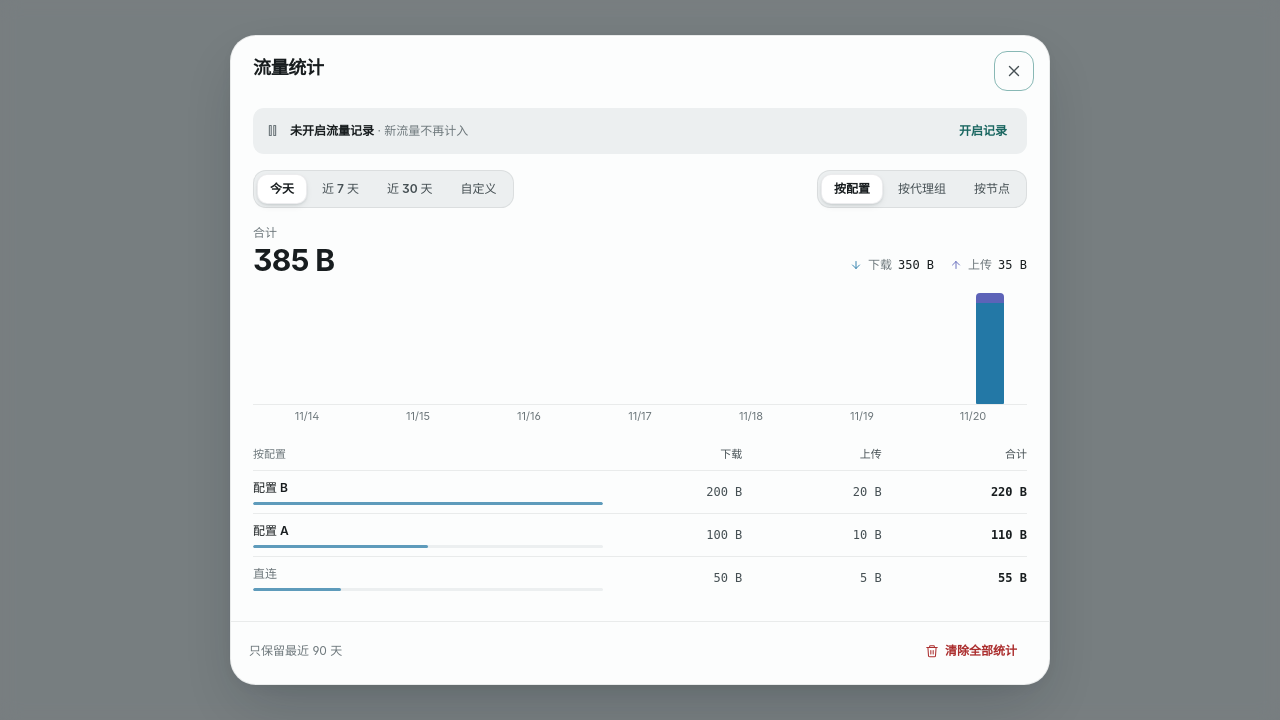
Test case: TrafficStatsDialog (R43) › keeps earlier rows readable and clearable after recording is turned off
Expected: the element with test id "traffic-off" shows "未开启流量记录", 290,123 -> 374,138
Expected: the number of rows with test id "traffic-row" is 3, 253,471 -> 1027,514; 253,514 -> 1027,557; 253,557 -> 1027,599
Click the button "清除全部统计" at (971,651), box 911,634 -> 1031,668
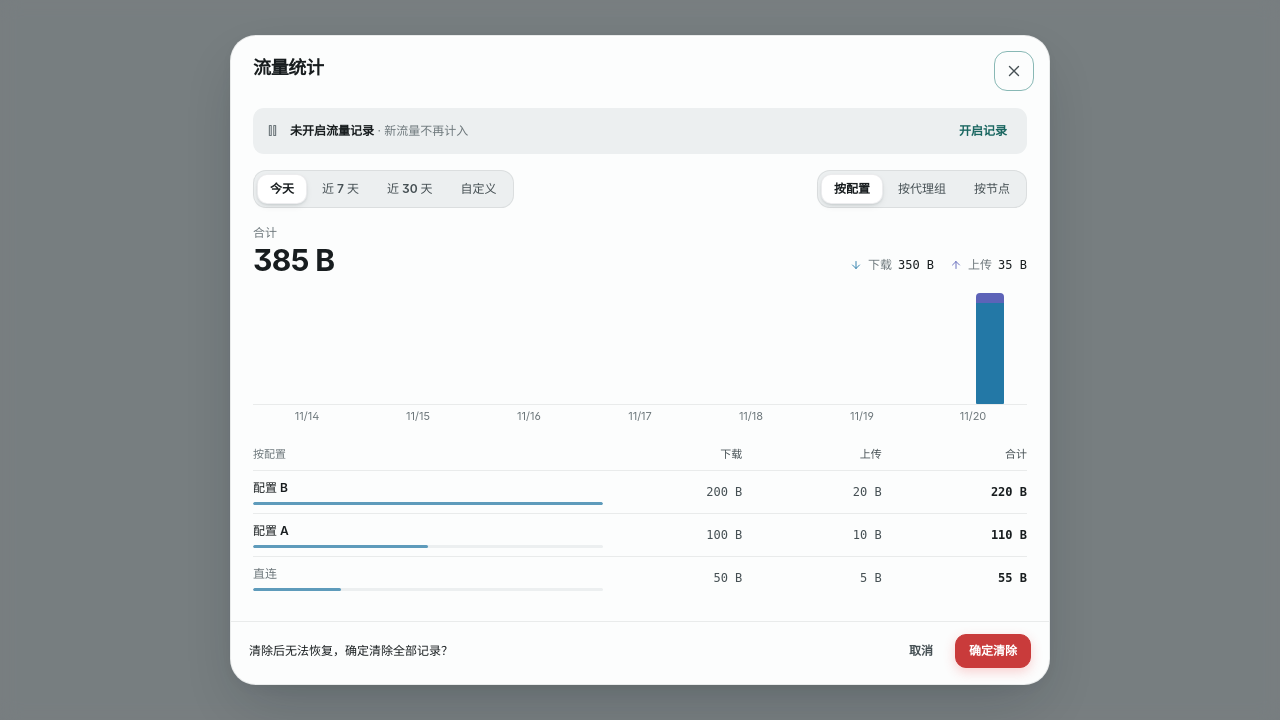
Click the button with test id "traffic-clear-confirm" at (993,651), box 955,634 -> 1031,668
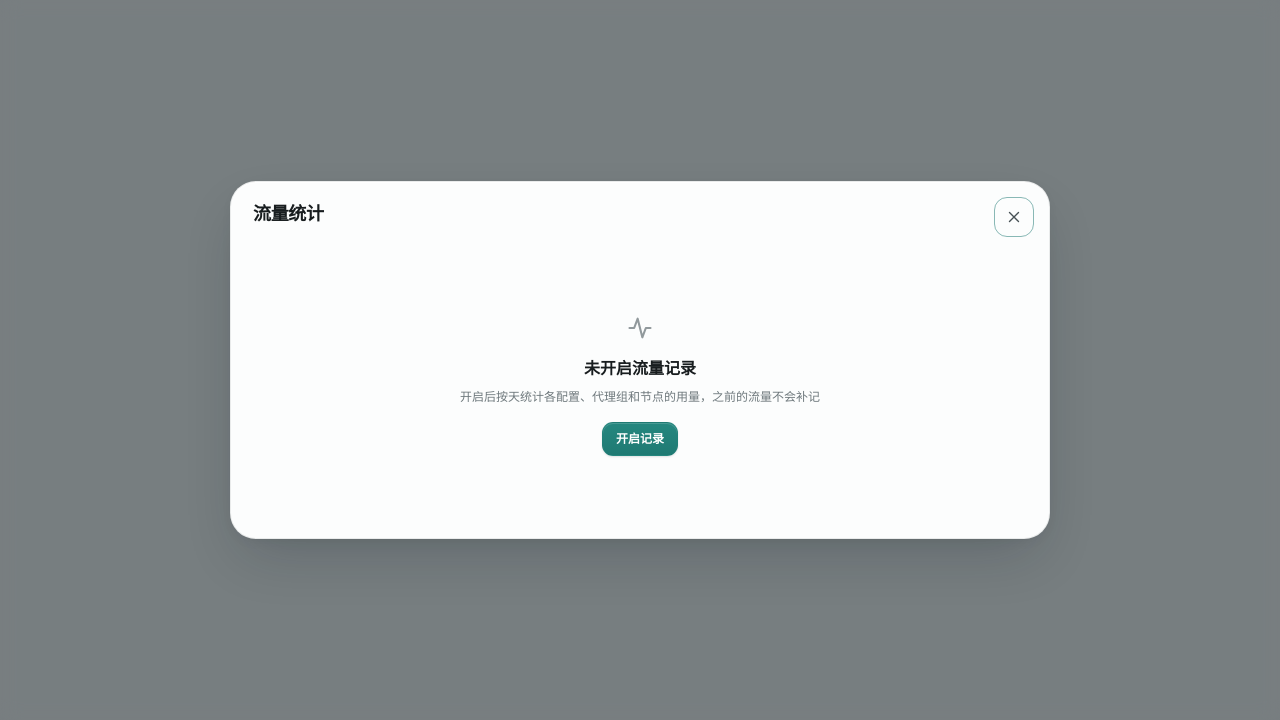
Expected: the button with test id "traffic-enable" is shown, 602,422 -> 678,456
Expected: the element with test id "traffic-off" shows "未开启流量记录", 584,358 -> 696,378
Expected: the row with test id "traffic-row" is gone
